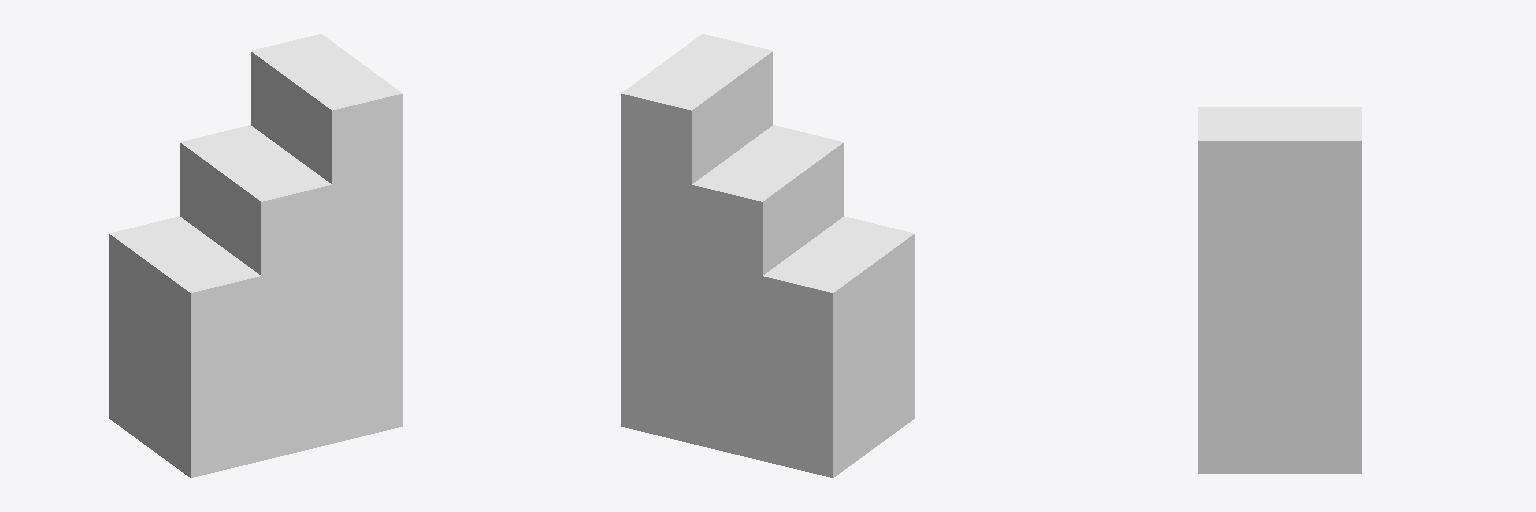
Rendered from ZIBU_Original_Animation_Ready-3.obj.
3 views of the same model, side by side, from view 1: azimuth 30°, elevation 25°; view 2: azimuth 150°, elevation 25°; view 3: azimuth 270°, elevation 25° (orthographic).
Parts seen in each view (by area): view 1: object 1; view 2: object 1; view 3: object 1.
Part boxes in pixels (x1,y1,x2,y2): object 1: (109,34,402,477); object 1: (621,34,914,477); object 1: (1198,107,1361,473).
Size of the model in its own units: 0.6 by 0.9 by 0.4.